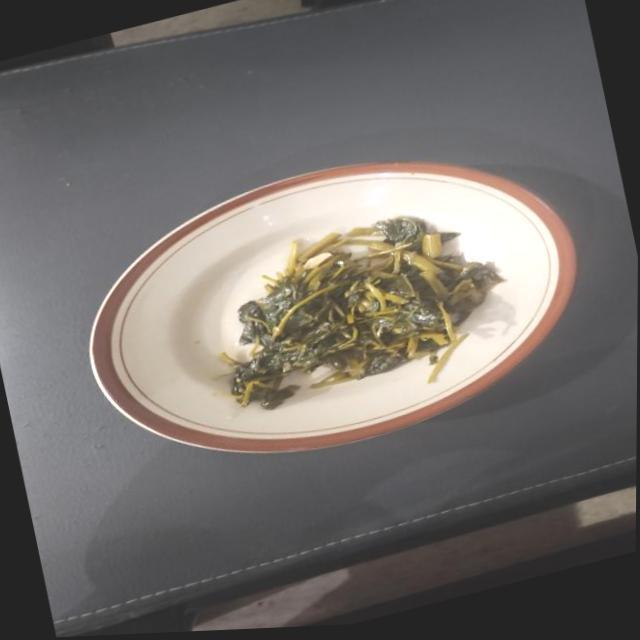tumis_kangkung: (221, 216, 502, 409)
